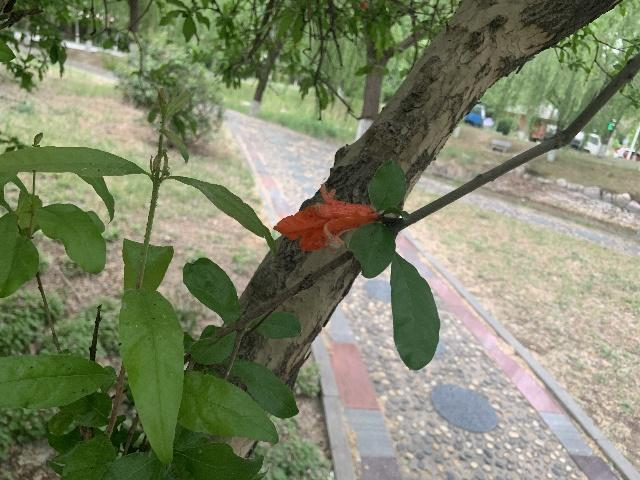flower: (273, 183, 379, 252)
